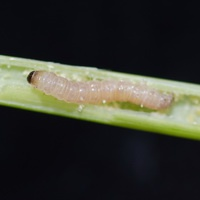insect: (27, 71, 173, 109)
